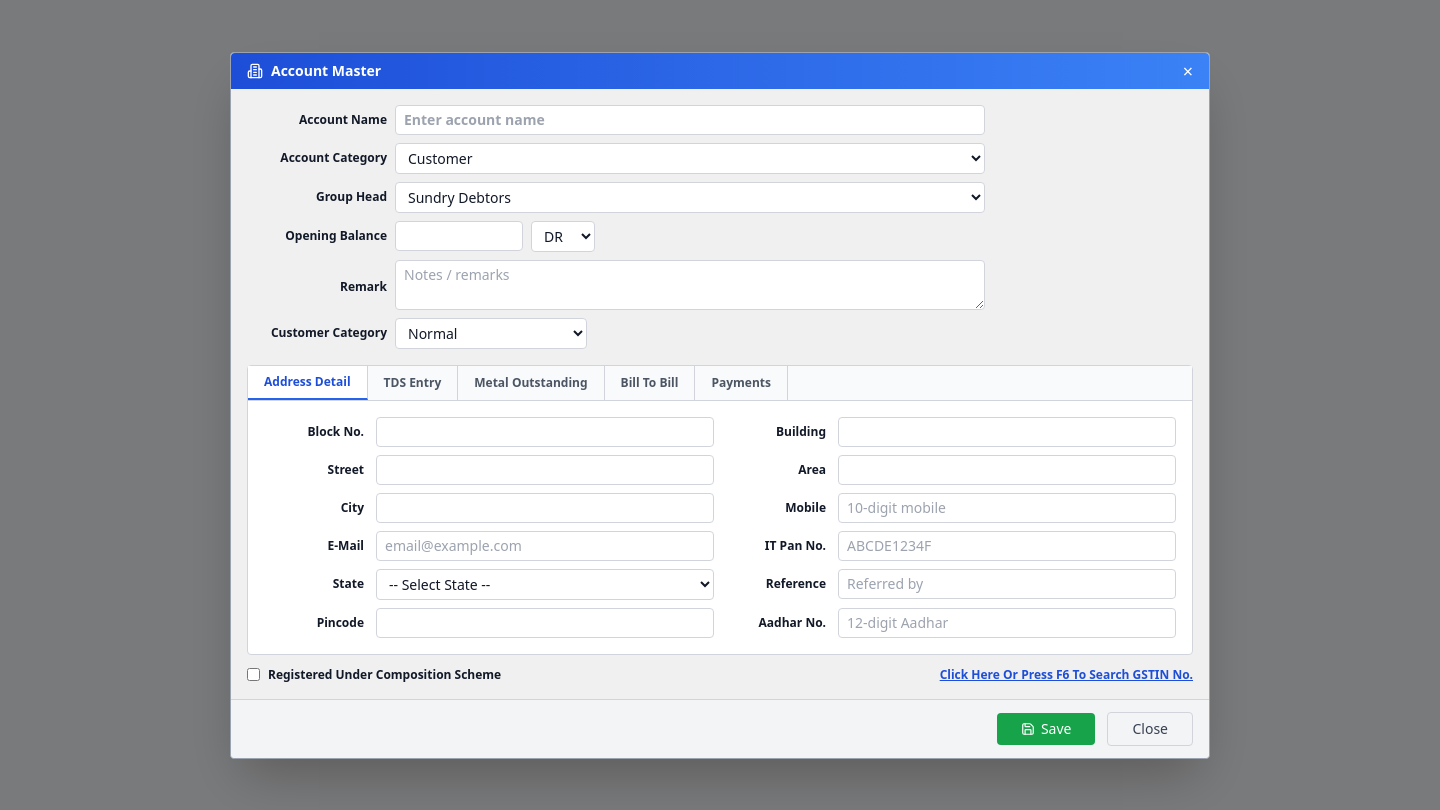
Scenario: AccountMasterModal › tab navigation › shows "Coming Soon" for Bill To Bill tab
Click the button "Bill To Bill" at (650,382), box [605,366,696,400]
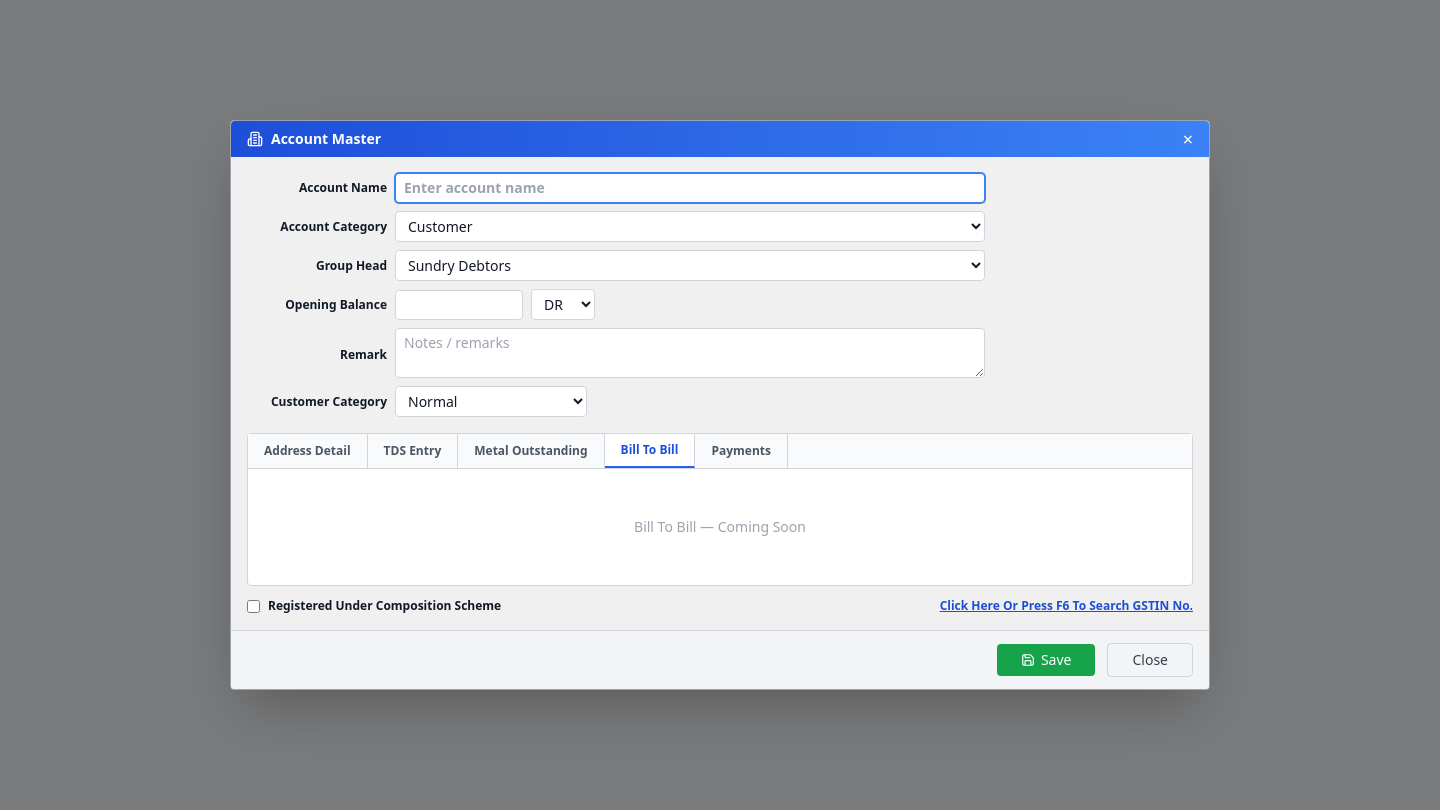
Expected: the text "Bill To Bill — Coming Soon" is shown, [634,517,806,536]
